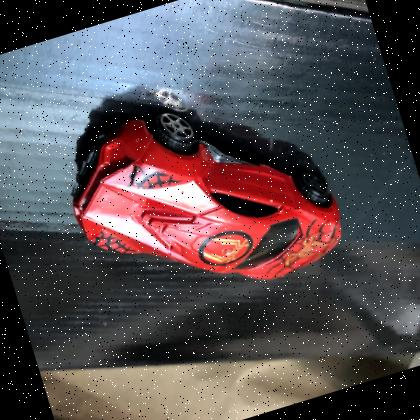Car: (72, 108, 342, 280)
